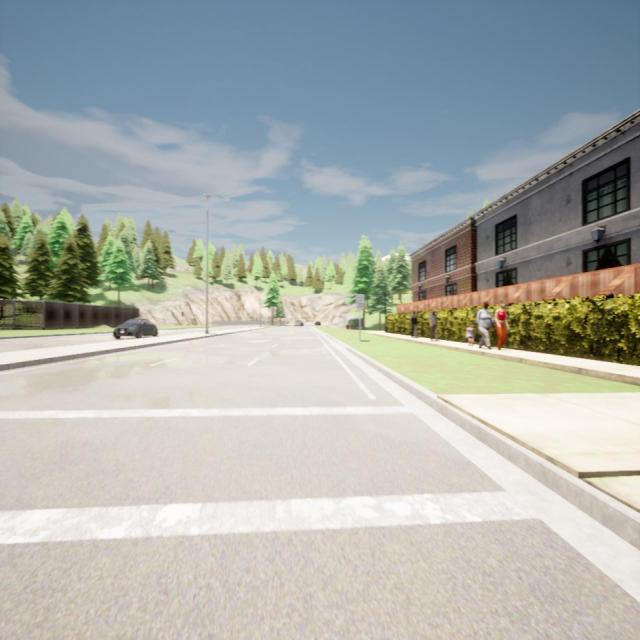Pedestrian: (476, 301, 494, 349), (495, 303, 509, 349), (428, 309, 441, 343), (464, 320, 478, 348), (408, 310, 418, 338)
Traffic_Signs: (356, 294, 364, 309)
Vehicle: (114, 318, 158, 339), (293, 319, 304, 327), (314, 320, 320, 326)
